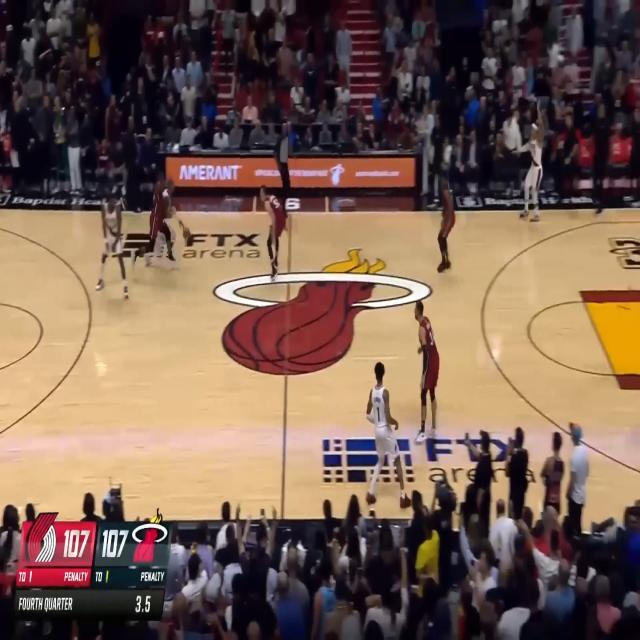Ball: (183, 227, 191, 241)
Overlay: (13, 508, 174, 620)
Player: (365, 362, 414, 509), (129, 172, 176, 272), (414, 299, 441, 445), (144, 178, 185, 272), (94, 192, 130, 299), (517, 100, 546, 224), (259, 185, 288, 282), (437, 177, 455, 271)
Ref: (272, 122, 290, 220)
Scoreboard: (13, 508, 174, 620)
